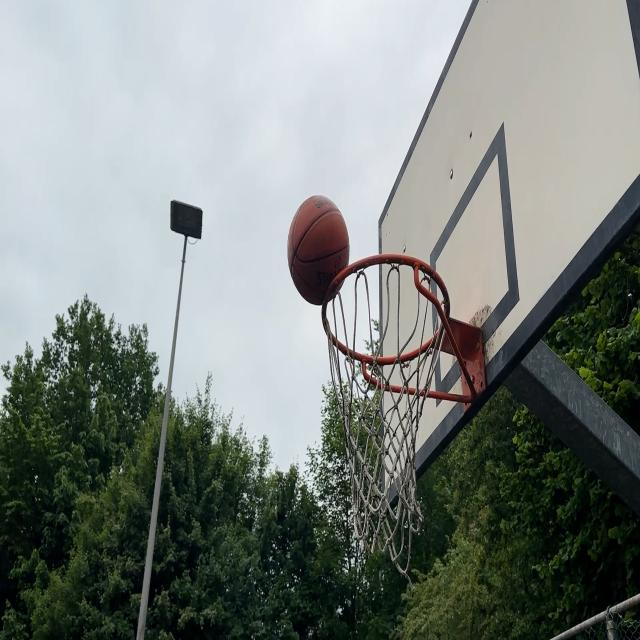rebound_hit: (286, 195, 348, 305)
